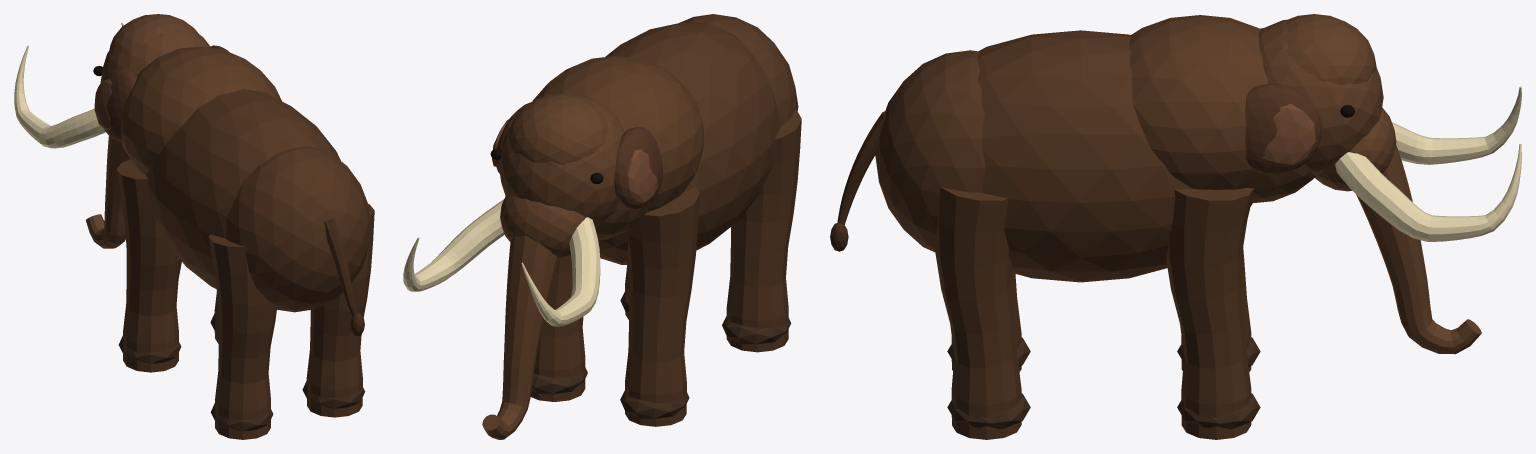
The model's file is Mammoth_LowPoly.obj.
The picture shows the model from 3 angles, left to right: view 1: azimuth 30°, elevation 25°; view 2: azimuth 150°, elevation 25°; view 3: azimuth 270°, elevation 25°; orthographic projection. The views are drawn at different scales.
Parts seen in each view (by area): view 1: Rump, Body, Shoulder_Hump, Rear_Leg_L, Front_Leg_L, Rear_Leg_R, Tusk_L, Trunk, Head, Forehead, Ear_L, Tail (+4 smaller); view 2: Body, Front_Leg_L, Shoulder_Hump, Rear_Leg_L, Trunk, Head, Forehead, Front_Leg_R, Tusk_L, Tusk_R, Muzzle, Rump (+6 smaller); view 3: Body, Shoulder_Hump, Front_Leg_R, Rear_Leg_R, Rump, Head, Trunk, Tusk_R, Forehead, Ear_R, Tusk_L, Ear_Inner_R (+5 smaller).
Boxes of the visible parts, <box> form: Rump: <box>226,146,371,312</box>; Body: <box>146,89,340,288</box>; Shoulder_Hump: <box>120,46,281,174</box>; Rear_Leg_L: <box>208,234,276,439</box>; Front_Leg_L: <box>116,159,181,372</box>; Rear_Leg_R: <box>306,204,374,417</box>; Tusk_L: <box>14,46,105,148</box>; Trunk: <box>86,136,129,248</box>; Head: <box>100,30,211,82</box>; Forehead: <box>109,14,198,55</box>; Ear_L: <box>103,68,136,141</box>; Tail: <box>324,218,357,316</box>; Body: <box>598,22,780,264</box>; Front_Leg_L: <box>625,186,699,426</box>; Shoulder_Hump: <box>533,56,704,211</box>; Rear_Leg_L: <box>726,109,801,352</box>; Trunk: <box>482,235,558,439</box>; Head: <box>498,93,624,226</box>; Forehead: <box>508,93,607,164</box>; Front_Leg_R: <box>530,255,585,401</box>; Tusk_L: <box>521,217,600,326</box>; Tusk_R: <box>403,199,504,291</box>; Muzzle: <box>500,195,585,259</box>; Rump: <box>679,14,798,126</box>; Body: <box>977,30,1252,282</box>; Shoulder_Hump: <box>1129,15,1268,189</box>; Front_Leg_R: <box>1166,188,1253,439</box>; Rear_Leg_R: <box>934,187,1021,439</box>; Rump: <box>875,50,985,252</box>; Head: <box>1258,19,1383,175</box>; Trunk: <box>1356,144,1481,354</box>; Tusk_R: <box>1335,144,1521,241</box>; Forehead: <box>1280,14,1376,84</box>; Ear_R: <box>1245,83,1321,174</box>; Tusk_L: <box>1392,86,1521,164</box>; Ear_Inner_R: <box>1261,104,1315,166</box>.
Bounding box in the file's own units: 1.94 × 3.58 × 5.96.
